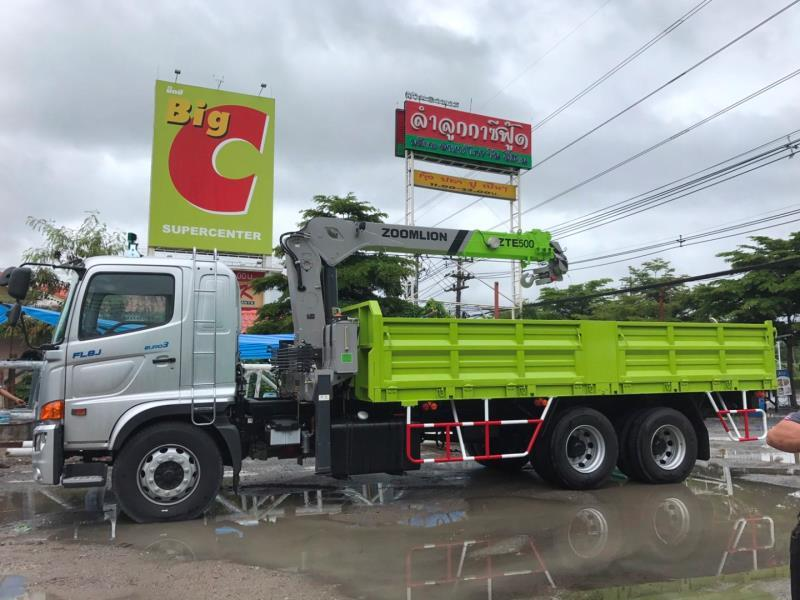truck: (32, 214, 778, 524)
